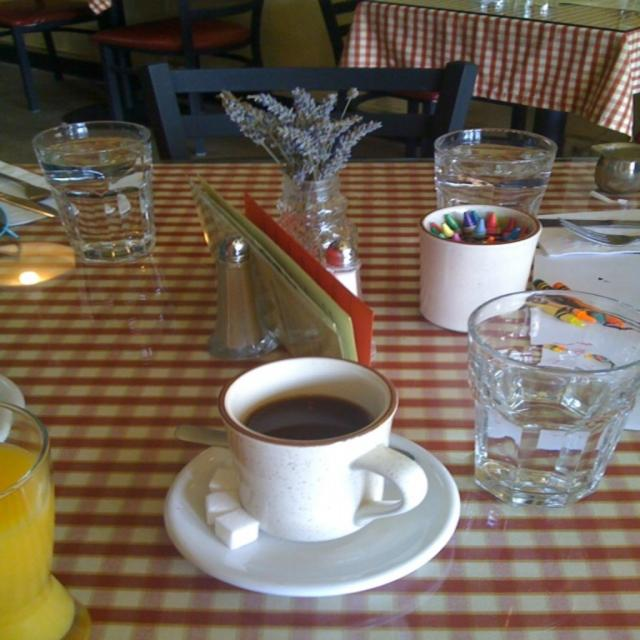Coffee: (248, 392, 368, 444)
Tea: (237, 397, 371, 440)
